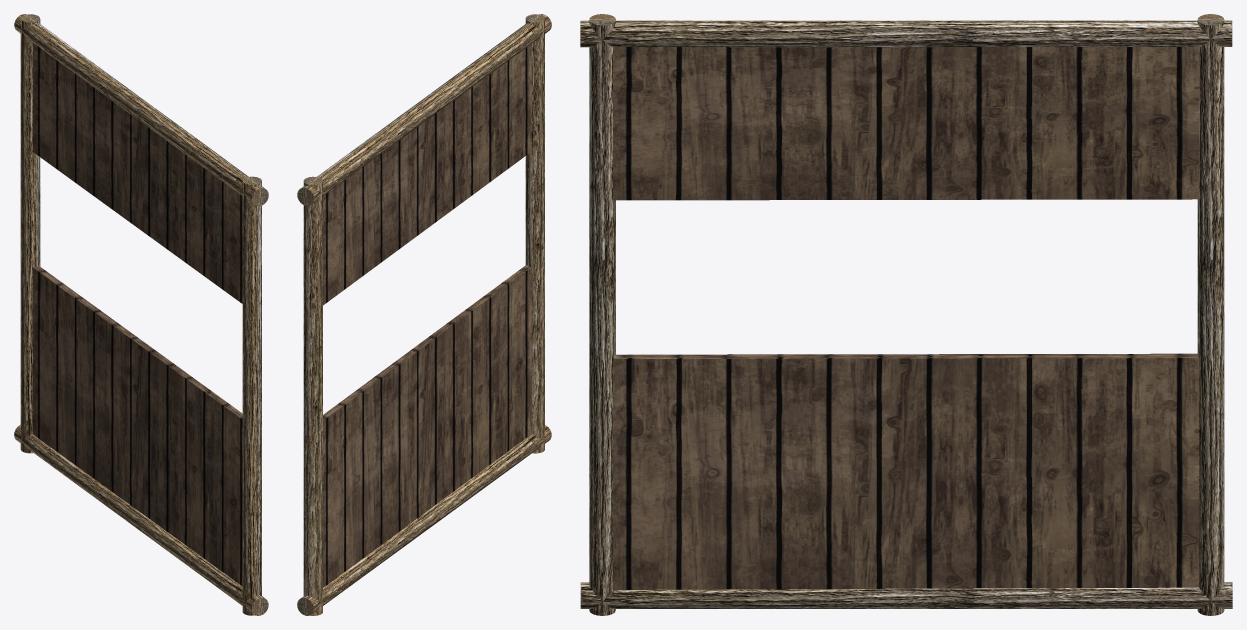
Rendered from wooden window.gltf.
3 views of the same model, side by side, from view 1: azimuth 30°, elevation 25°; view 2: azimuth 150°, elevation 25°; view 3: azimuth 270°, elevation 25° (orthographic). The views are drawn at different scales.
Visible parts, largest first — view 1: Küp (×2), Silindir2, Silindir1, Silindir3, Silindir; view 2: Küp (×2), Silindir1, Silindir2, Silindir3, Silindir; view 3: Küp (×2), Silindir3, Silindir1, Silindir2, Silindir.
Part boxes in pixels (left/top/right/bottom): Küp (×2): left=32, top=43, right=242, bottom=586; Silindir2: left=242, top=176, right=261, bottom=615; Silindir1: left=20, top=14, right=40, bottom=453; Silindir3: left=14, top=14, right=268, bottom=206; Silindir: left=14, top=425, right=268, bottom=615; Küp (×2): left=323, top=44, right=531, bottom=587; Silindir1: left=303, top=176, right=322, bottom=615; Silindir2: left=525, top=14, right=544, bottom=453; Silindir3: left=297, top=14, right=551, bottom=205; Silindir: left=297, top=425, right=551, bottom=615; Küp (×2): left=613, top=47, right=1199, bottom=589; Silindir3: left=580, top=20, right=1232, bottom=47; Silindir1: left=1197, top=14, right=1224, bottom=615; Silindir2: left=589, top=14, right=615, bottom=615; Silindir: left=580, top=582, right=1232, bottom=608.
Bounding box in the file's own units: 0.0866 × 2.1 × 2.1.
Materials: 6 (6 with a texture image).
